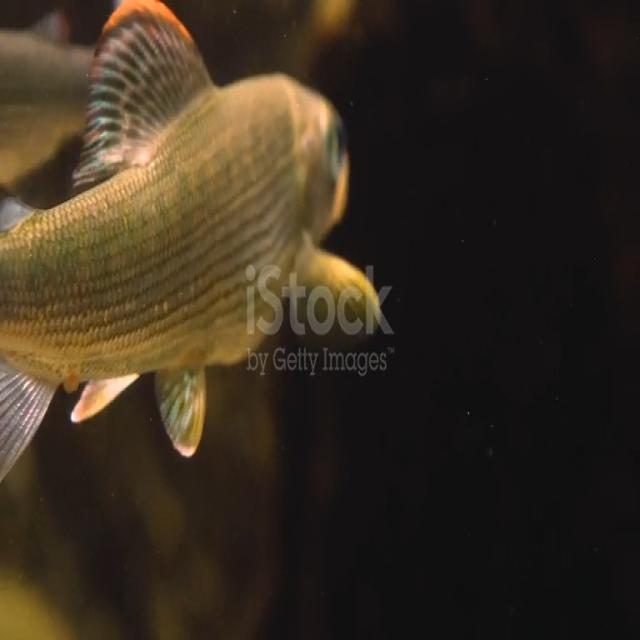fish: (1, 3, 366, 490)
